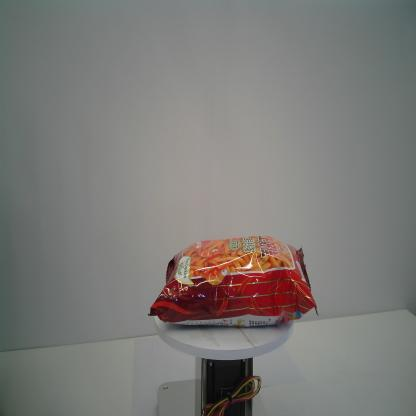Puffed Food: (147, 234, 320, 328)
